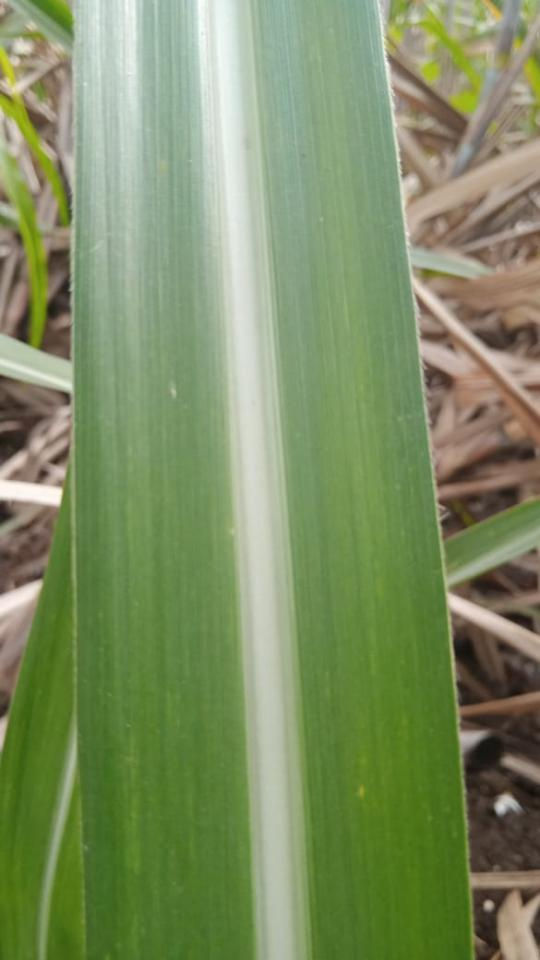Healthy: (74, 0, 472, 959)
